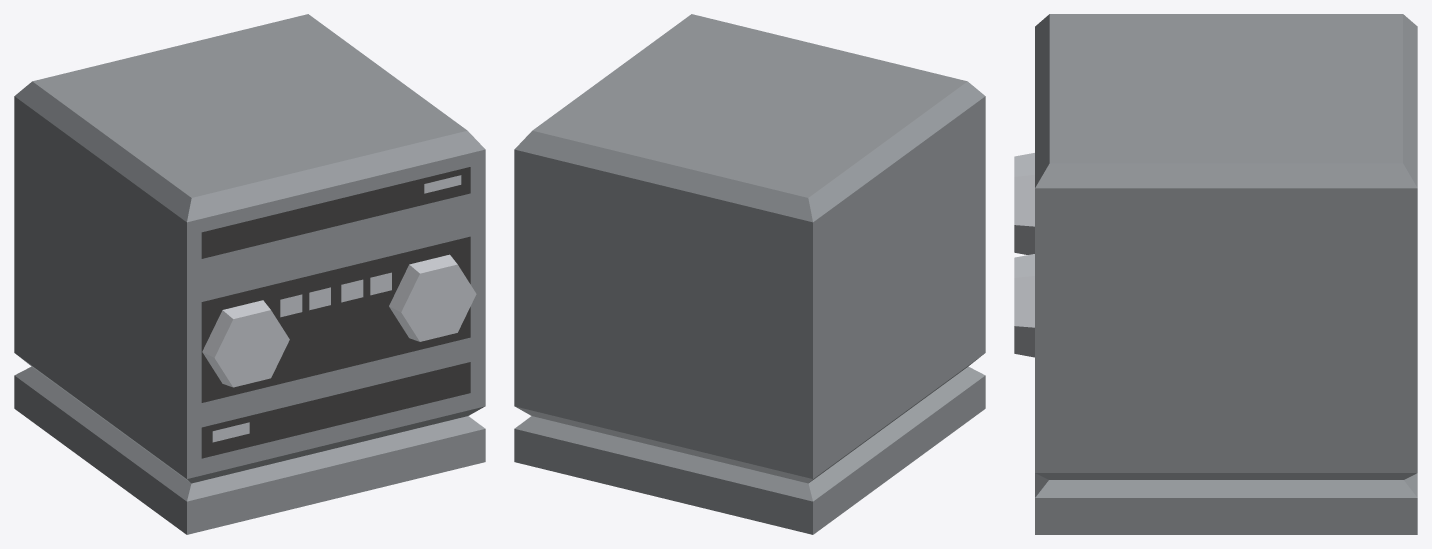
File: SM_Prop_Stereo_01.fbx
The picture shows the model from 3 angles, left to right: view 1: azimuth 30°, elevation 25°; view 2: azimuth 150°, elevation 25°; view 3: azimuth 270°, elevation 25°; orthographic projection. The views are drawn at different scales.
Visible parts, largest first — view 1: SM_Prop_Stereo_01; view 2: SM_Prop_Stereo_01; view 3: SM_Prop_Stereo_01.
Part boxes in pixels (x1=…): SM_Prop_Stereo_01: x1=14, y1=14, x2=485, y2=534; SM_Prop_Stereo_01: x1=514, y1=14, x2=985, y2=534; SM_Prop_Stereo_01: x1=1014, y1=14, x2=1417, y2=534.
Bounding box in the file's own units: 26.37 × 27.79 × 27.8.
